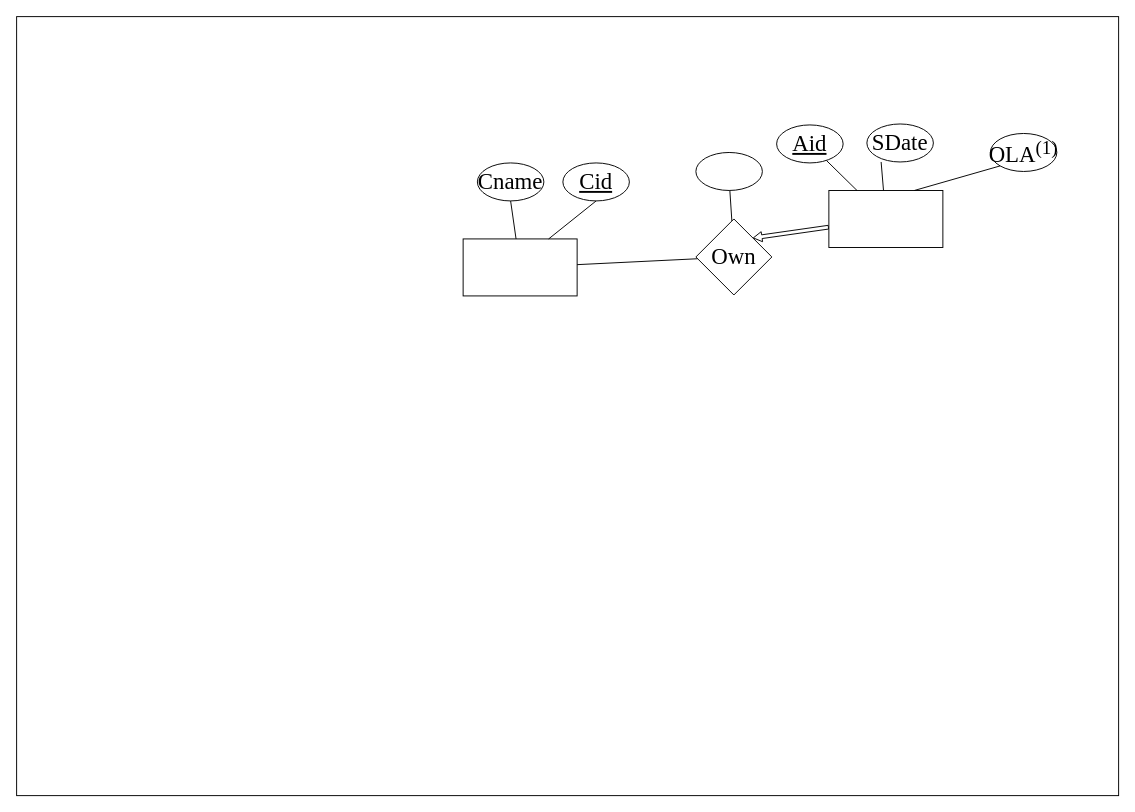
Some shapes in this 1135 by 812 pixel diagram are drawn without their labels. The centre of each missing label's shape, as x and y in pixels:
"Account" goes at [885,218].
"Customer" goes at [519,267].
"Pin" goes at [728,171].
